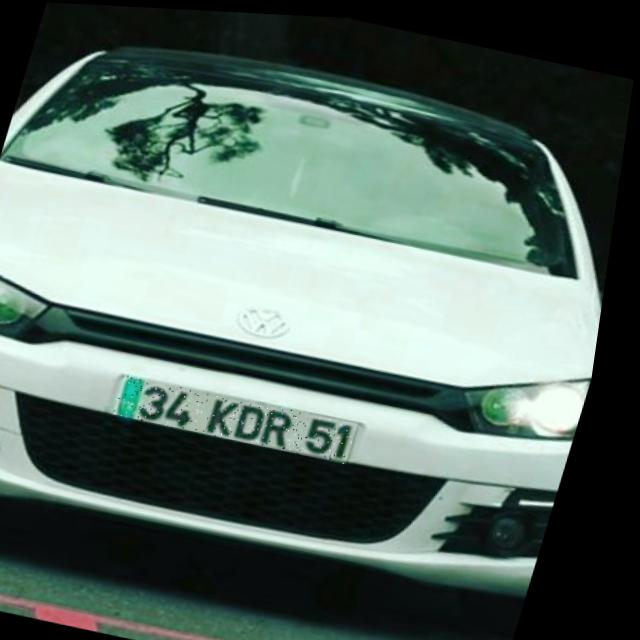license_plate: (121, 372, 373, 460)
